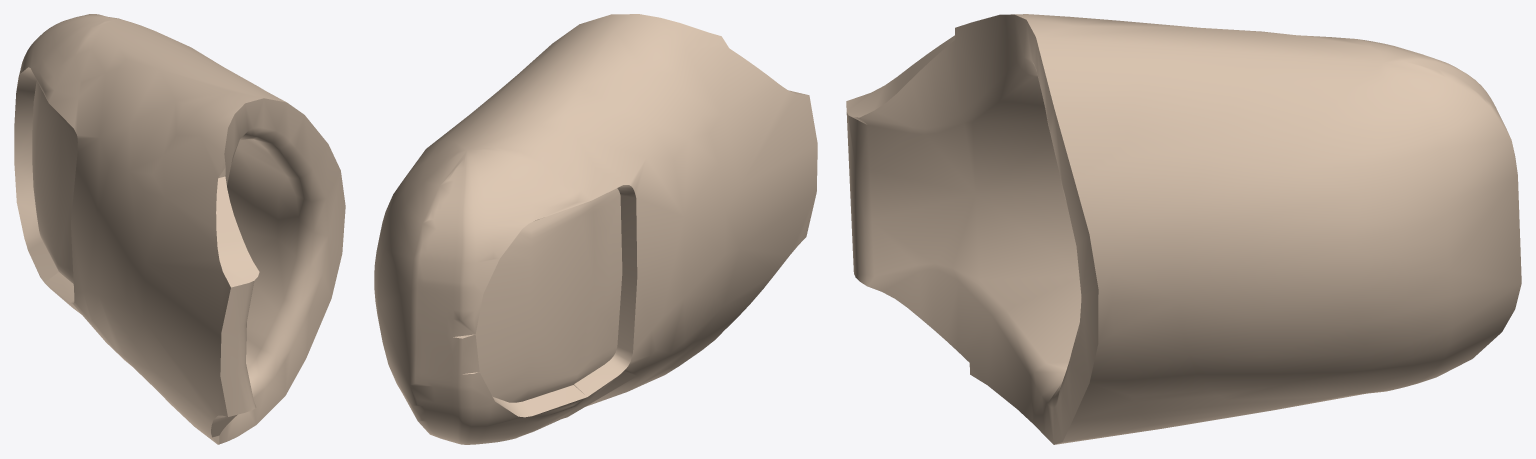
Rendered from r_hand_D_1.obj.
3 renders of one model, left to right at view 1: azimuth 30°, elevation 25°; view 2: azimuth 150°, elevation 25°; view 3: azimuth 270°, elevation 25°, orthographic. The views are drawn at different scales.
Size of the model in its own units: 14.61 by 20.58 by 30.27.
